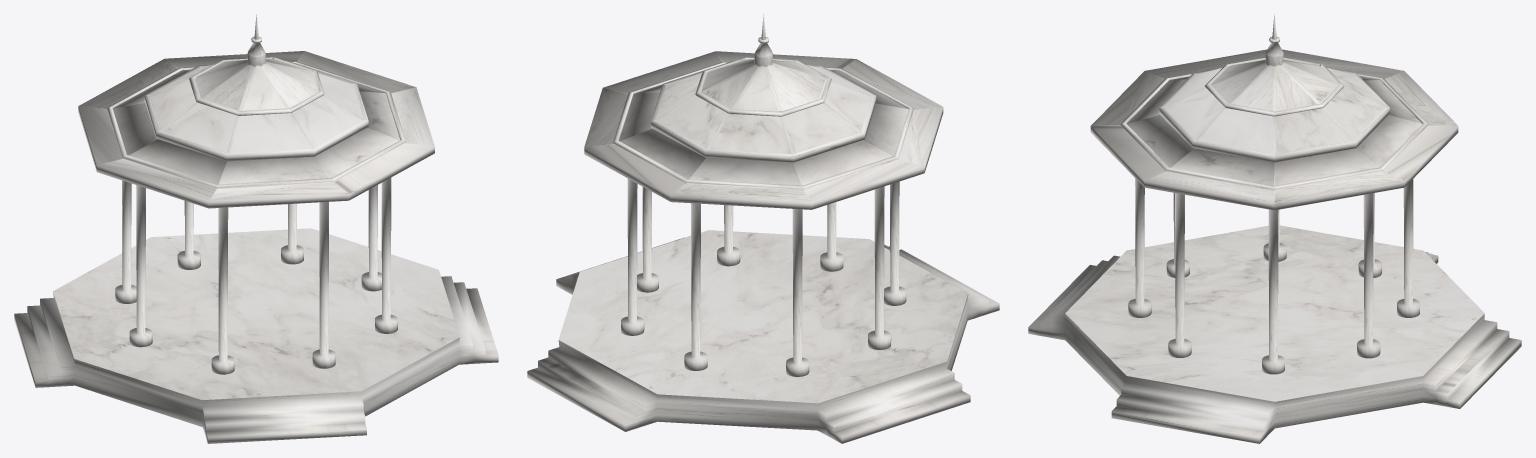
The model's file is kiosko.obj.
3 renders of one model, left to right at view 1: azimuth 30°, elevation 25°; view 2: azimuth 150°, elevation 25°; view 3: azimuth 270°, elevation 25°, orthographic.
Parts seen in each view (by area): view 1: gazebo_base, gazebo_Cilindro3, gazebo_colonne_Cilindro8, gazebo_colonne_Cilindro4, gazebo_colonne_Cilindro1, gazebo_colonne_Cilindro5, gazebo_colonne_Cilindro7, gazebo_colonne_Cilindro6, gazebo_colonne_Cilindro2, gazebo_colonne_Cilindro; view 2: gazebo_base, gazebo_Cilindro3, gazebo_colonne_Cilindro7, gazebo_colonne_Cilindro2, gazebo_colonne_Cilindro1, gazebo_colonne_Cilindro, gazebo_colonne_Cilindro8, gazebo_colonne_Cilindro6, gazebo_colonne_Cilindro4, gazebo_colonne_Cilindro5; view 3: gazebo_base, gazebo_Cilindro3, gazebo_colonne_Cilindro, gazebo_colonne_Cilindro6, gazebo_colonne_Cilindro5, gazebo_colonne_Cilindro4, gazebo_colonne_Cilindro2.
Part boxes in pixels (box(x1,y1,x2,y2)): gazebo_base: box(14, 228, 498, 443); gazebo_Cilindro3: box(78, 14, 434, 208); gazebo_colonne_Cilindro8: box(211, 207, 234, 374); gazebo_colonne_Cilindro4: box(312, 202, 335, 368); gazebo_colonne_Cilindro1: box(129, 185, 152, 347); gazebo_colonne_Cilindro5: box(375, 178, 397, 333); gazebo_colonne_Cilindro7: box(115, 180, 136, 303); gazebo_colonne_Cilindro6: box(361, 185, 381, 291); gazebo_colonne_Cilindro2: box(177, 201, 200, 269); gazebo_colonne_Cilindro: box(281, 203, 303, 264); gazebo_base: box(527, 230, 999, 443); gazebo_Cilindro3: box(584, 14, 943, 209); gazebo_colonne_Cilindro7: box(786, 209, 809, 376); gazebo_colonne_Cilindro2: box(684, 203, 707, 370); gazebo_colonne_Cilindro1: box(868, 186, 891, 349); gazebo_colonne_Cilindro: box(621, 178, 644, 335); gazebo_colonne_Cilindro8: box(884, 181, 906, 305); gazebo_colonne_Cilindro6: box(637, 187, 658, 292); gazebo_colonne_Cilindro4: box(820, 202, 843, 271); gazebo_colonne_Cilindro5: box(717, 205, 740, 266); gazebo_base: box(1028, 225, 1521, 443); gazebo_Cilindro3: box(1090, 14, 1458, 210); gazebo_colonne_Cilindro: box(1357, 193, 1380, 358); gazebo_colonne_Cilindro6: box(1262, 209, 1284, 374); gazebo_colonne_Cilindro5: box(1168, 193, 1191, 357); gazebo_colonne_Cilindro4: box(1128, 178, 1151, 317); gazebo_colonne_Cilindro2: box(1397, 179, 1420, 317).
Size of the model in its own units: 200 by 147 by 201.
Materials: 1 (1 with a texture image).
